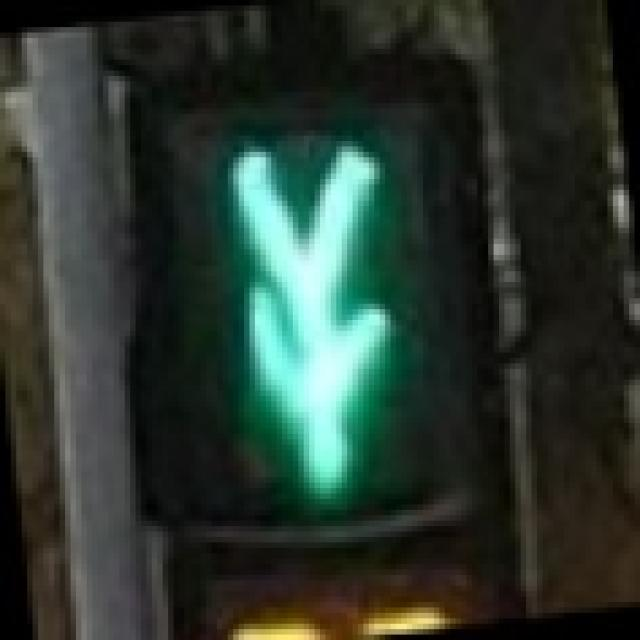green_light: (174, 87, 450, 537)
